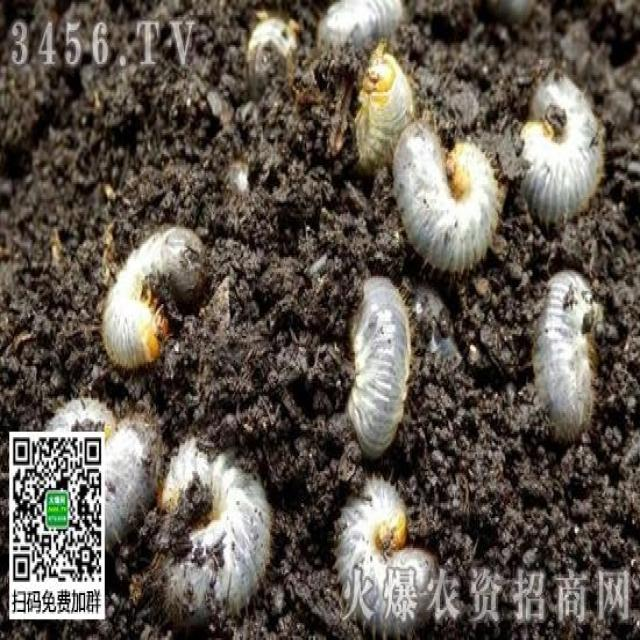grub: (160, 437, 280, 617), (387, 111, 497, 274), (330, 480, 440, 622), (105, 231, 209, 379), (520, 66, 615, 225), (338, 277, 418, 457), (532, 266, 604, 435)
